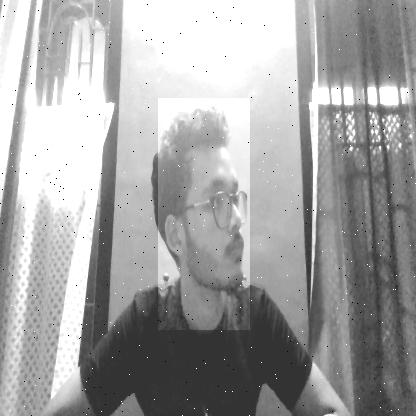Distracted: (158, 98, 250, 330)
